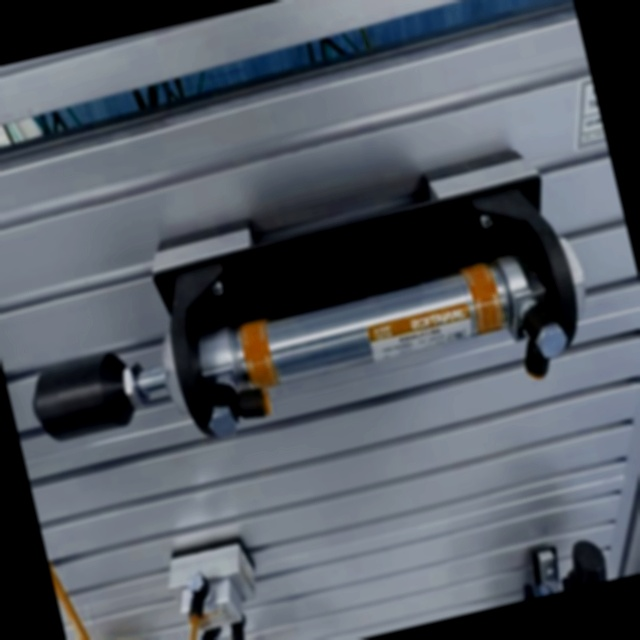double acting pneumatic cylinder: (0, 128, 606, 501)
